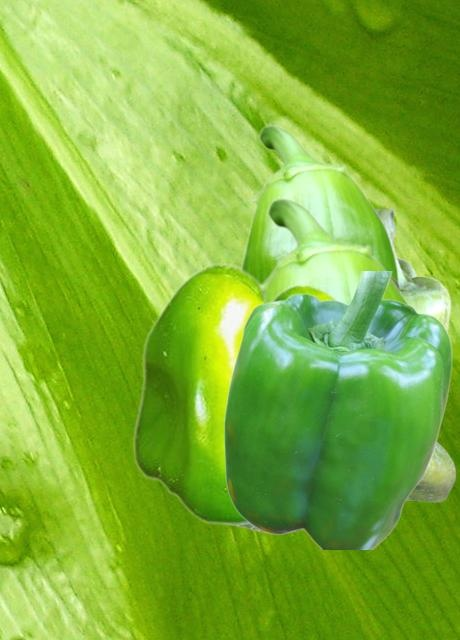bell_pepper: (223, 271, 451, 548), (132, 262, 340, 524), (260, 197, 429, 506), (240, 124, 400, 286), (377, 209, 455, 501)
